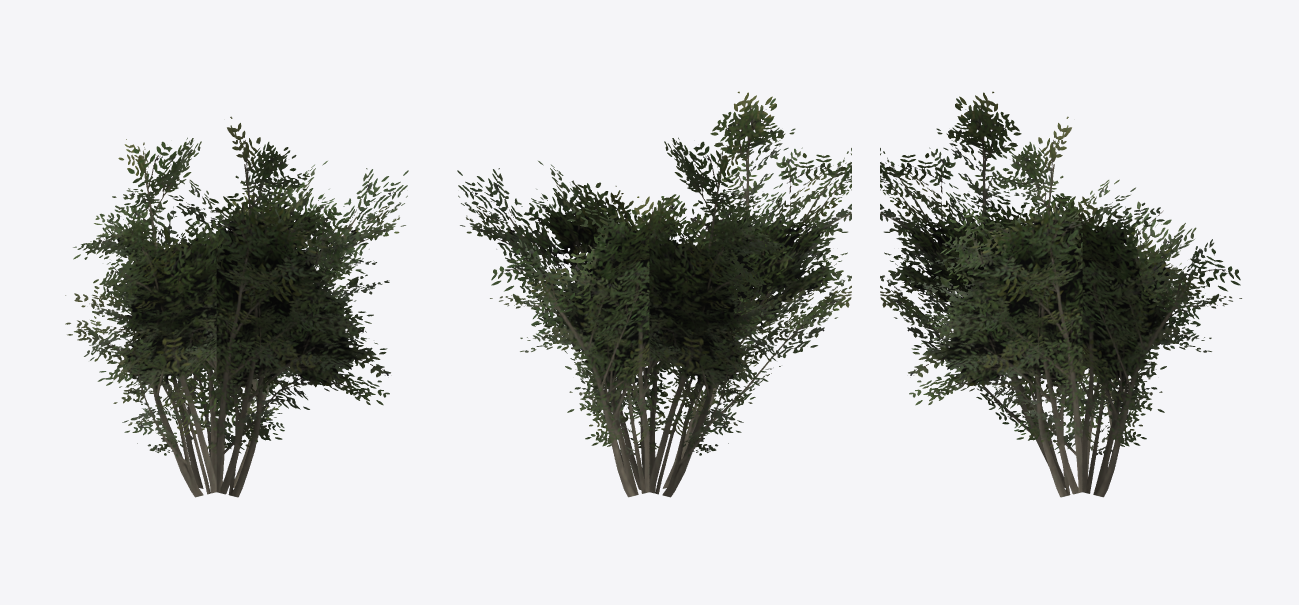
Rendered from bez_cerny_1_daleko.glb.
The picture shows the model from 3 angles, left to right: view 1: azimuth 30°, elevation 25°; view 2: azimuth 150°, elevation 25°; view 3: azimuth 270°, elevation 25°; orthographic projection.
Visible parts, largest first — view 1: bez_cerny_1_daleko; view 2: bez_cerny_1_daleko; view 3: bez_cerny_1_daleko.
Part boxes in pixels (x1=…): bez_cerny_1_daleko: x1=65, y1=116, x2=408, y2=497; bez_cerny_1_daleko: x1=457, y1=91, x2=851, y2=497; bez_cerny_1_daleko: x1=880, y1=91, x2=1241, y2=497.
Bounding box in the file's own units: 4.23 × 3.79 × 3.67.
3 materials, 3 textured.
